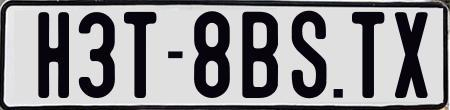3: (76, 11, 113, 103)
8: (194, 8, 232, 97)
B: (239, 9, 280, 100)
H: (38, 12, 74, 99)
S: (292, 11, 327, 103)
T: (121, 12, 158, 103), (349, 10, 385, 102)
X: (395, 11, 432, 98)
